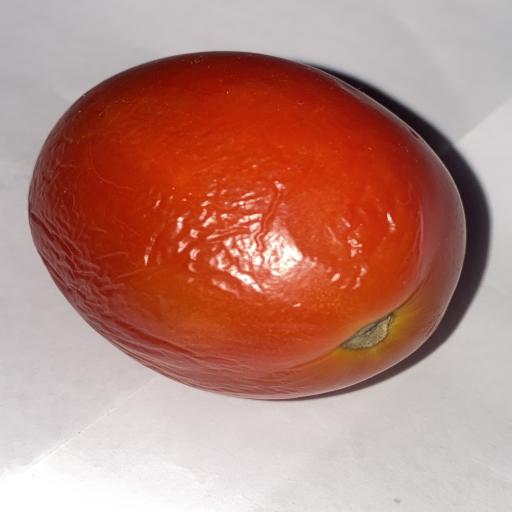spoiled: (29, 52, 465, 398)
